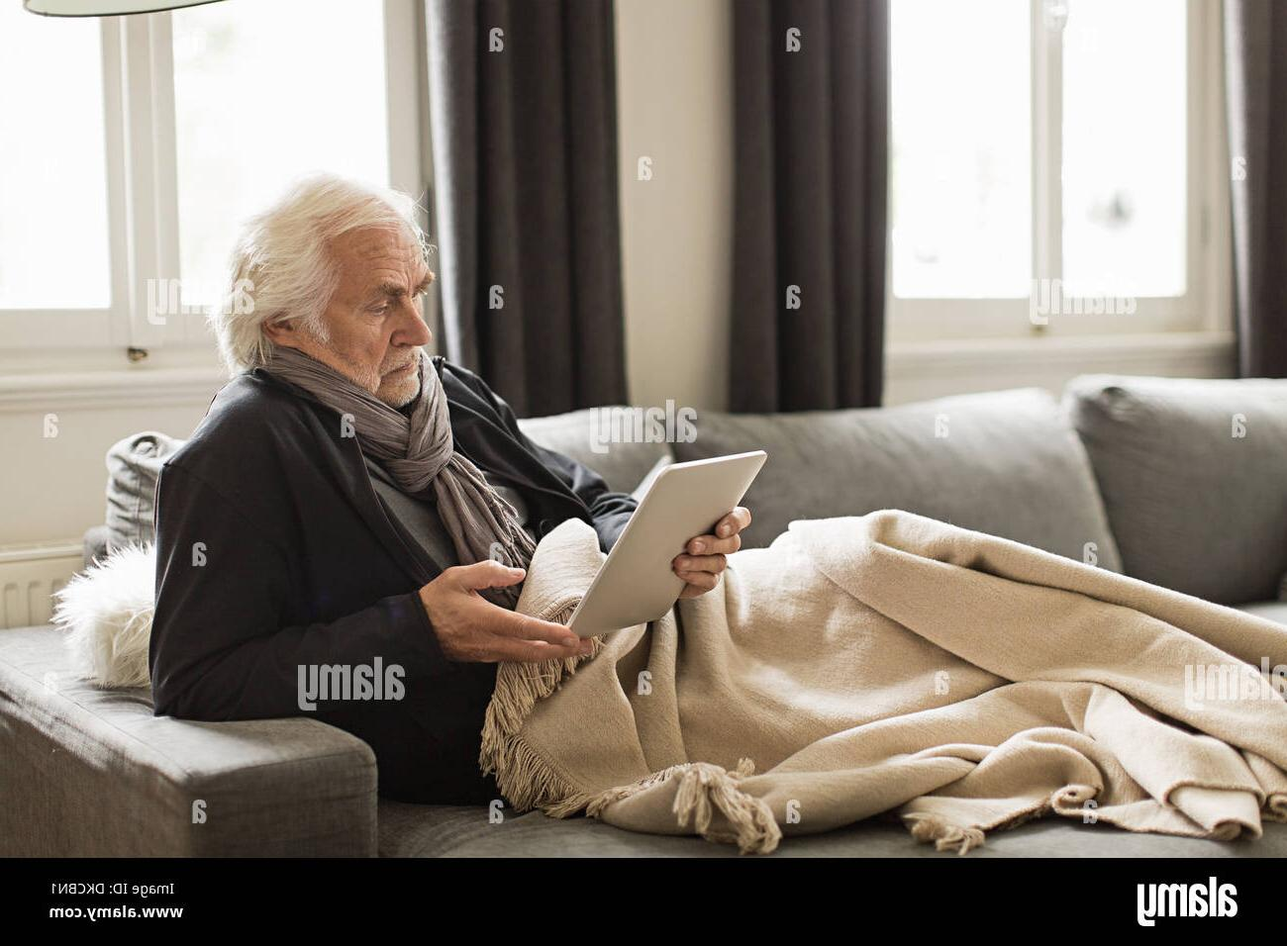blanket: (476, 502, 1287, 853)
jacket: (147, 344, 652, 810)
